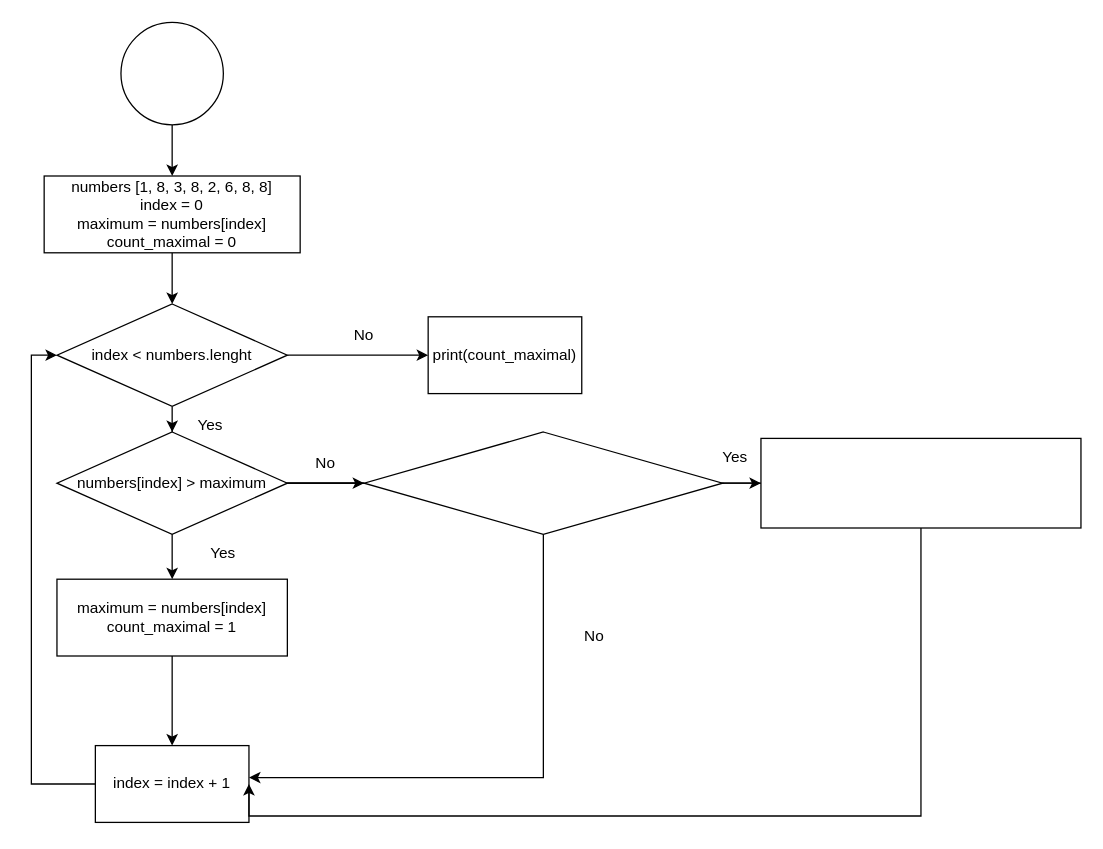
Some shapes in this 1103 by 849 pixel diagram are drawn without their labels. Here are the shapes that lost their labels. From the top down, the centre of each, then its label:
At (171,73): "start".
At (543,482): "numbers[index] == max".
At (920,482): "count_maximal = count_maximal + 1".
